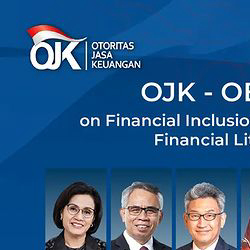ojk: (26, 23, 143, 72)
